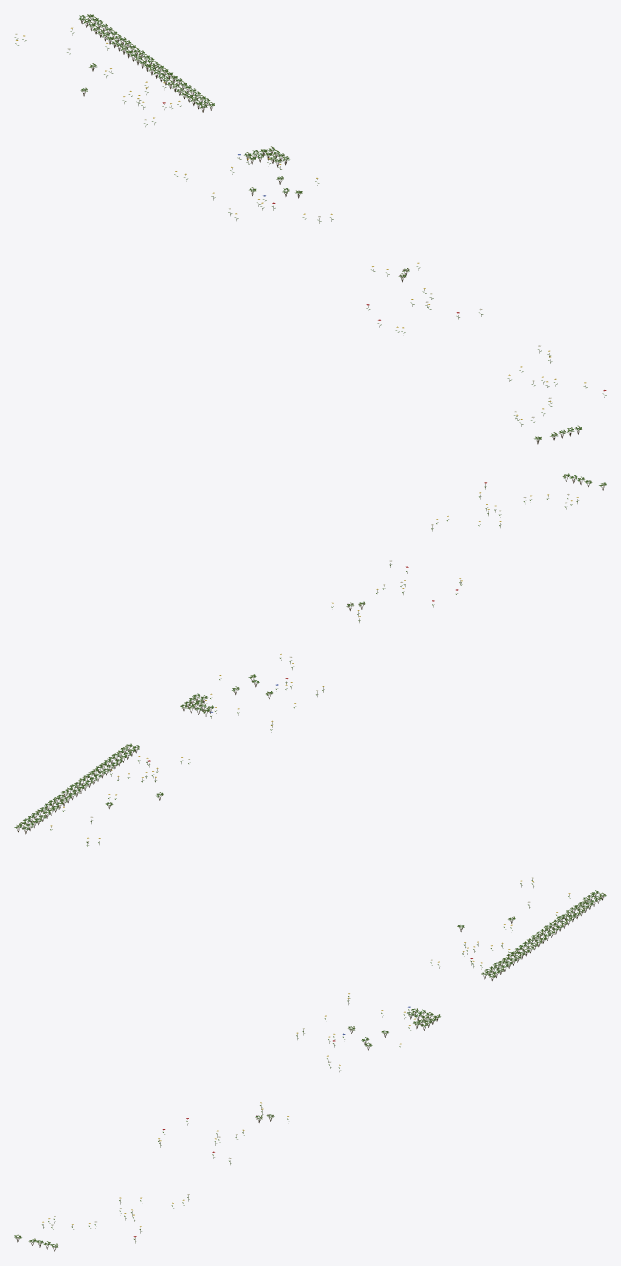
The picture shows the model from 3 angles, top to bottom: view 1: azimuth 30°, elevation 25°; view 2: azimuth 150°, elevation 25°; view 3: azimuth 330°, elevation 25°; orthographic projection. The views are drawn at different scales.
Parts seen in each view (by area): view 1: GROUND_FLORA_s_-4_3; view 2: GROUND_FLORA_s_-4_3; view 3: GROUND_FLORA_s_-4_3.
Boxes of the visible parts, left/top/right/bottom form: GROUND_FLORA_s_-4_3: left=14, top=14, right=606, bottom=444; GROUND_FLORA_s_-4_3: left=14, top=473, right=606, bottom=846; GROUND_FLORA_s_-4_3: left=14, top=877, right=606, bottom=1251.
Size of the model in its own units: 13.09 by 0.9729 by 118.
